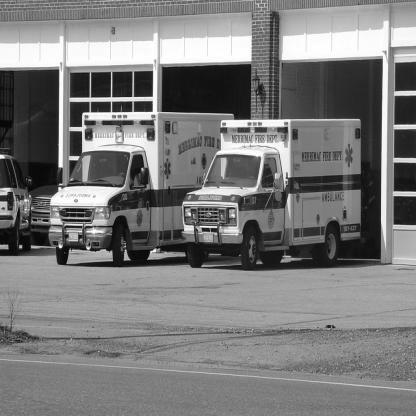ambulance: (184, 107, 385, 264), (40, 104, 198, 270)
